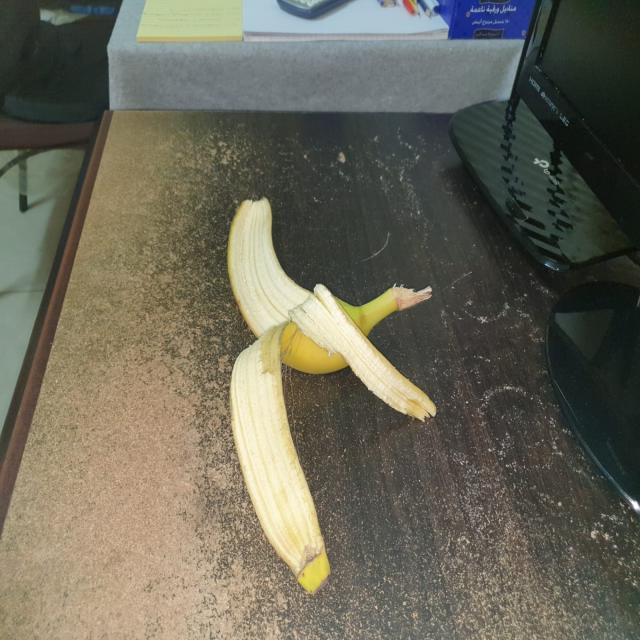banana-peel: (224, 195, 437, 593)
